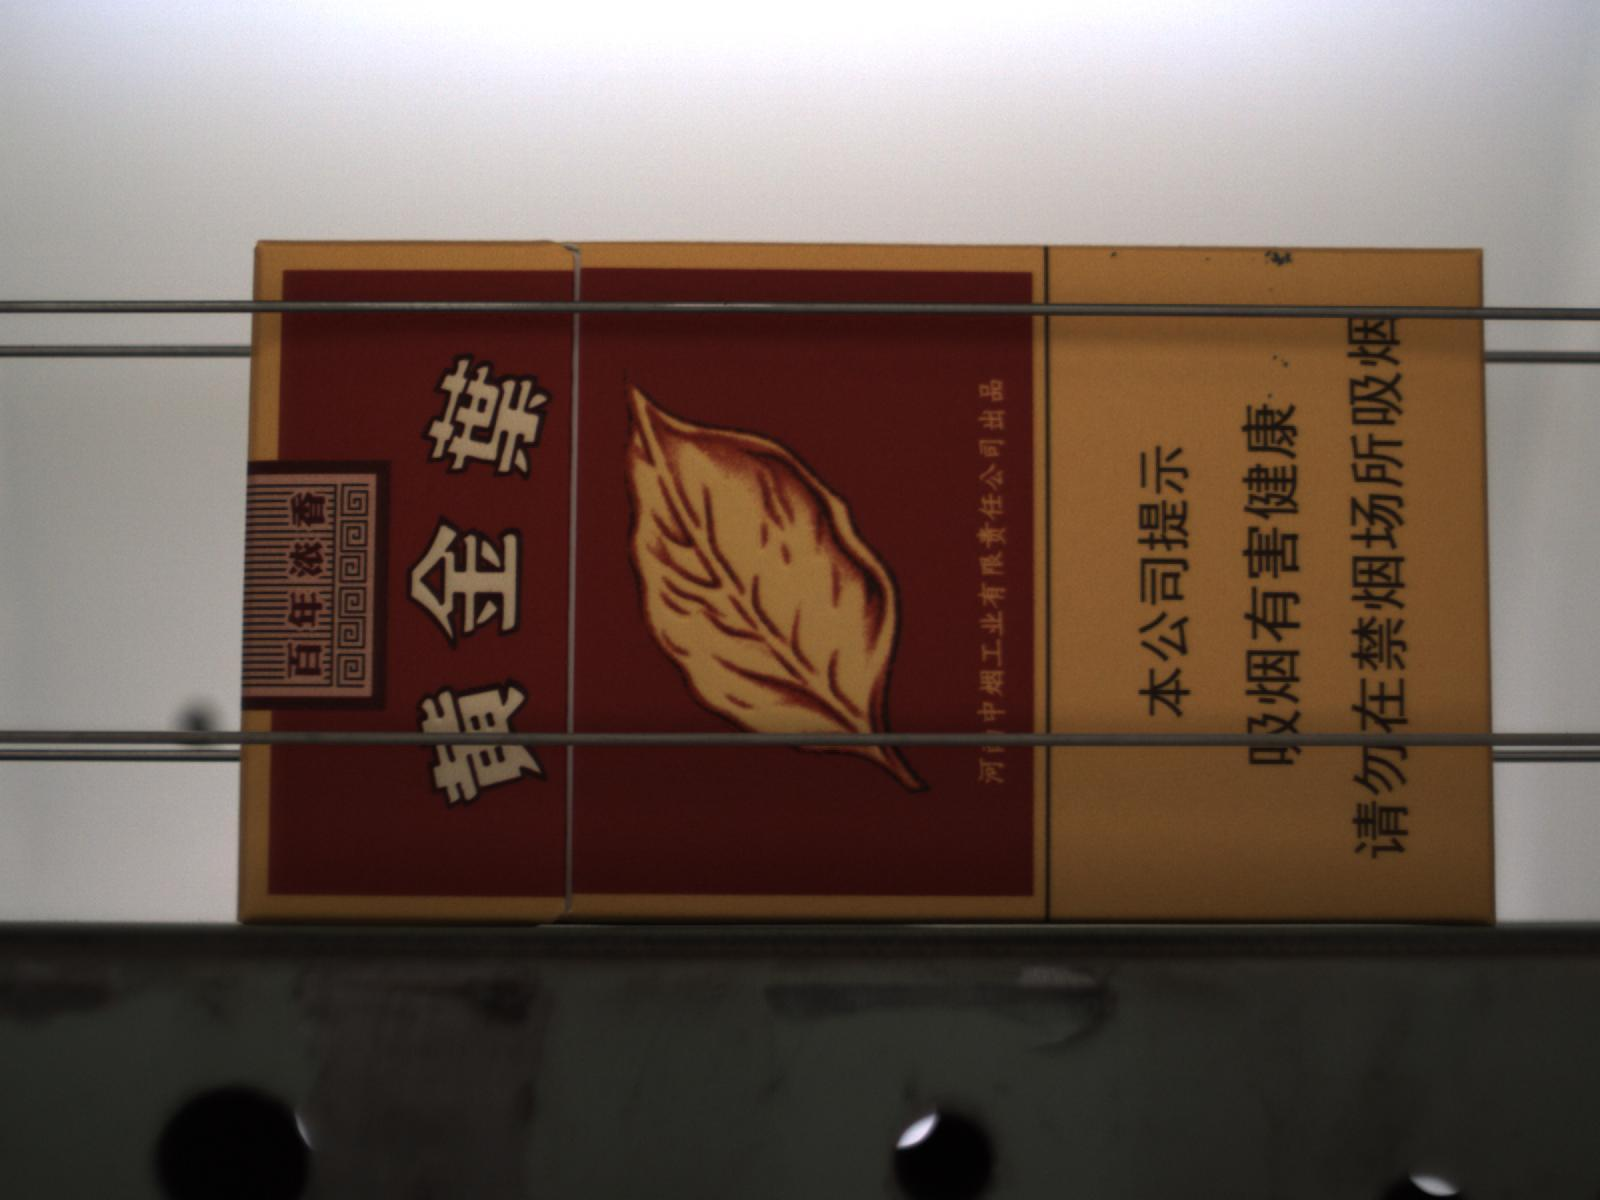dirtySpot: (1110, 250, 1120, 260), (1203, 255, 1212, 263), (1265, 392, 1274, 400), (1283, 361, 1291, 368), (1272, 354, 1277, 361)
gumDirt: (1264, 250, 1294, 268)
